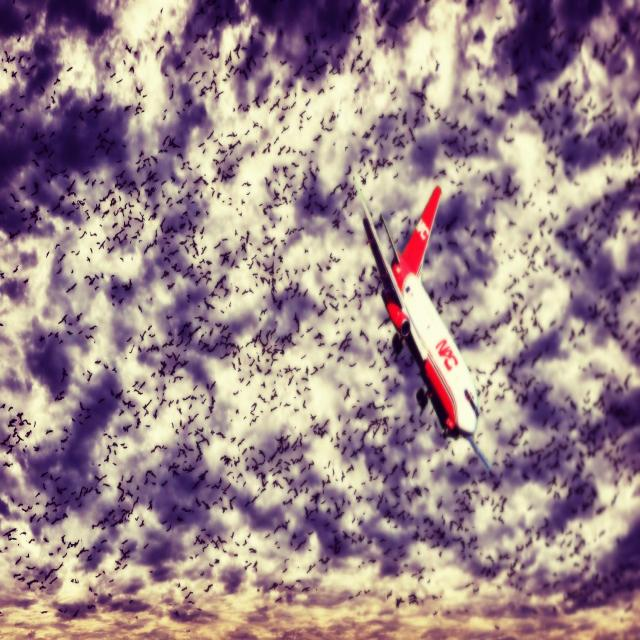airplane: (352, 175, 491, 472)
